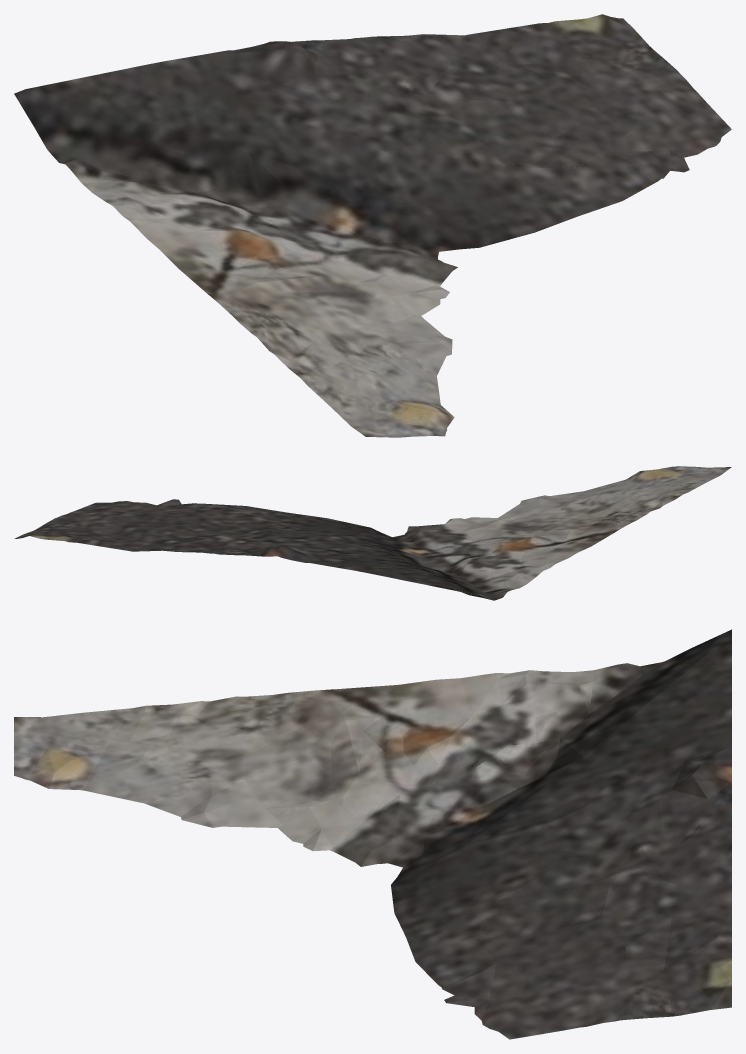
The picture shows the model from 3 angles, top to bottom: view 1: azimuth 30°, elevation 25°; view 2: azimuth 150°, elevation 25°; view 3: azimuth 270°, elevation 25°; orthographic projection. The views are drawn at different scales.
Bounding box in the file's own units: 0.8374 × 0.1397 × 0.8374.
Materials: 2 (2 with a texture image).
